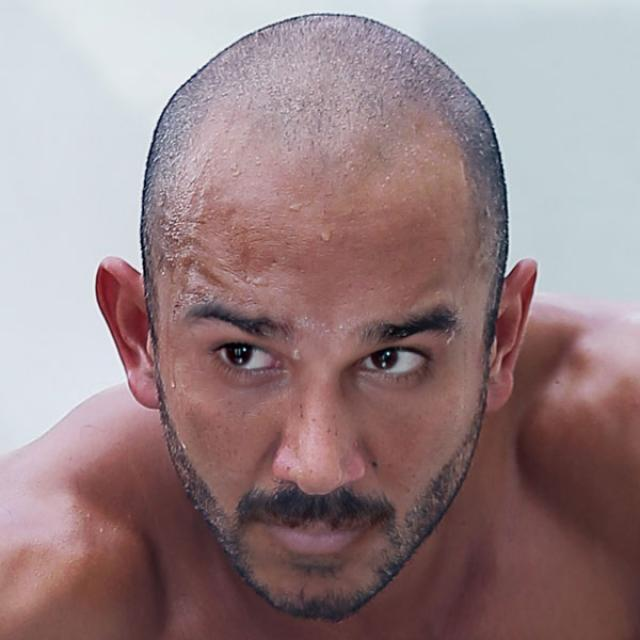face: (89, 10, 541, 627)
